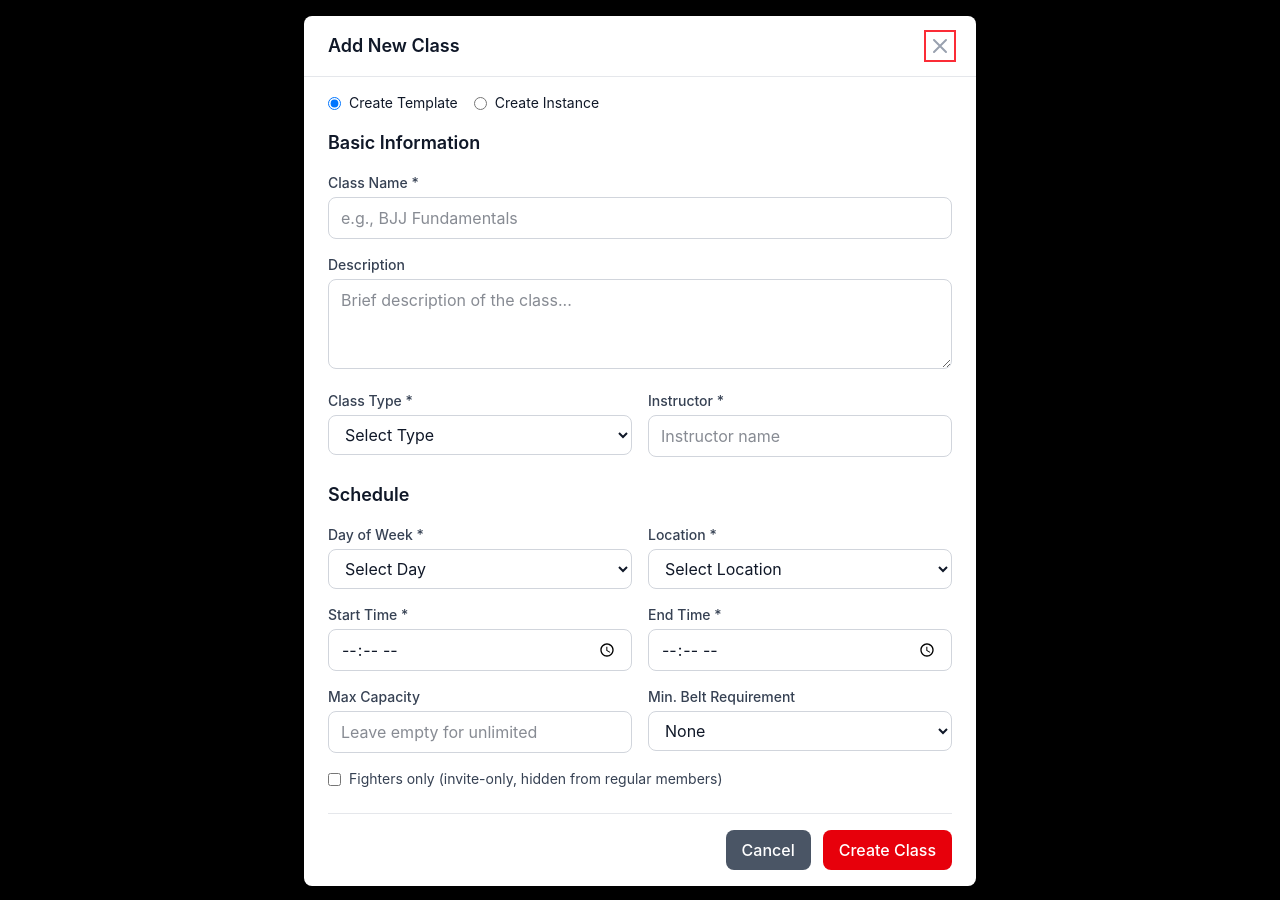
AddClassModal › validates end time after start time
Type "BJJ" into the field named "name" at {"x": 640, "y": 218}, box [328,197,952,239]
Type "Coach" into the field named "instructor" at {"x": 800, "y": 436}, box [648,415,952,457]
Select "Bjj" in the dropdown named "class_type" below "Class Type *" at {"x": 480, "y": 435}, box [328,415,632,455]
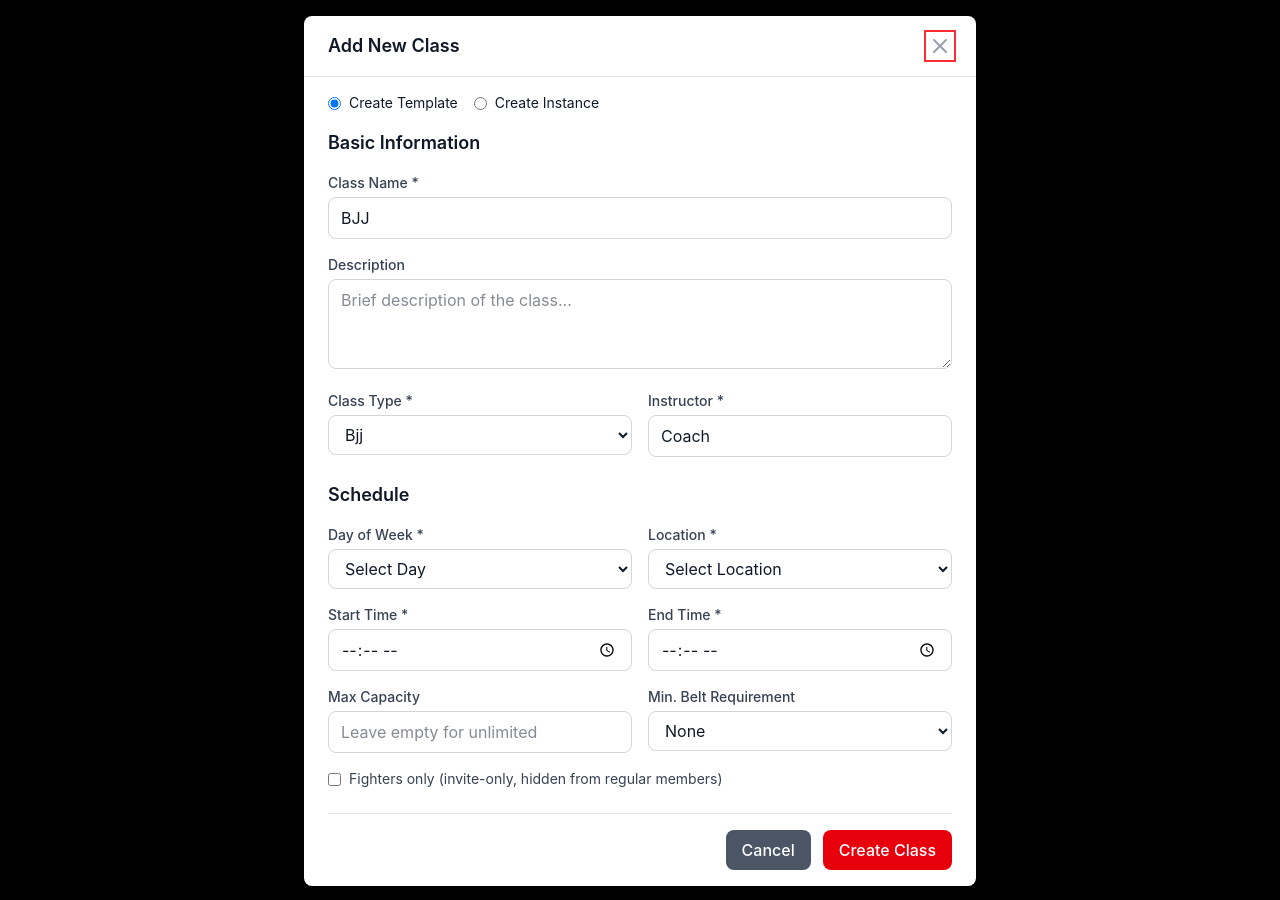
Select "Rockingham" in the dropdown named "location" below "Location *" at {"x": 800, "y": 569}, box [648,549,952,589]
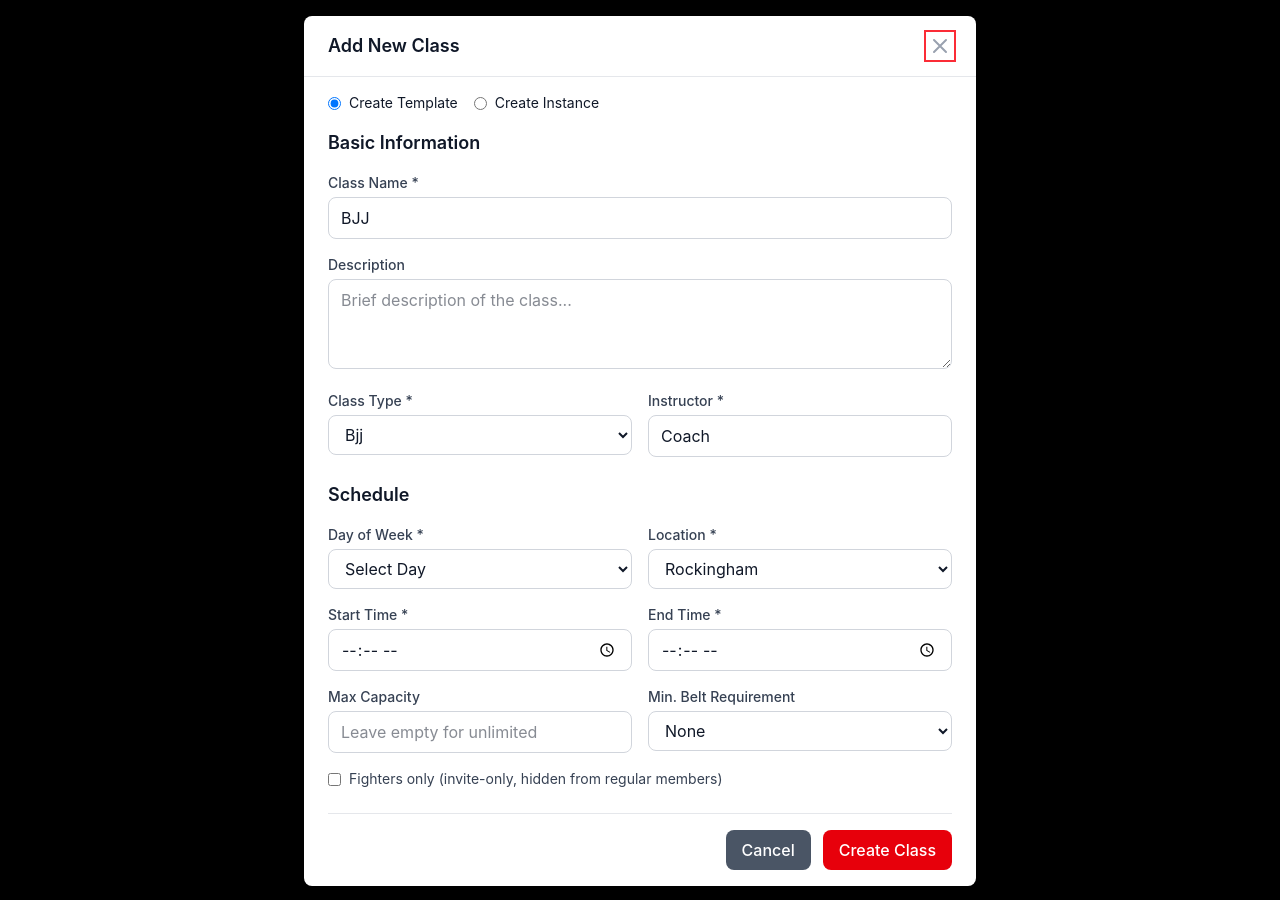
Select "Monday" in the dropdown named "day_of_week" below "Day of Week *" at {"x": 480, "y": 569}, box [328,549,632,589]
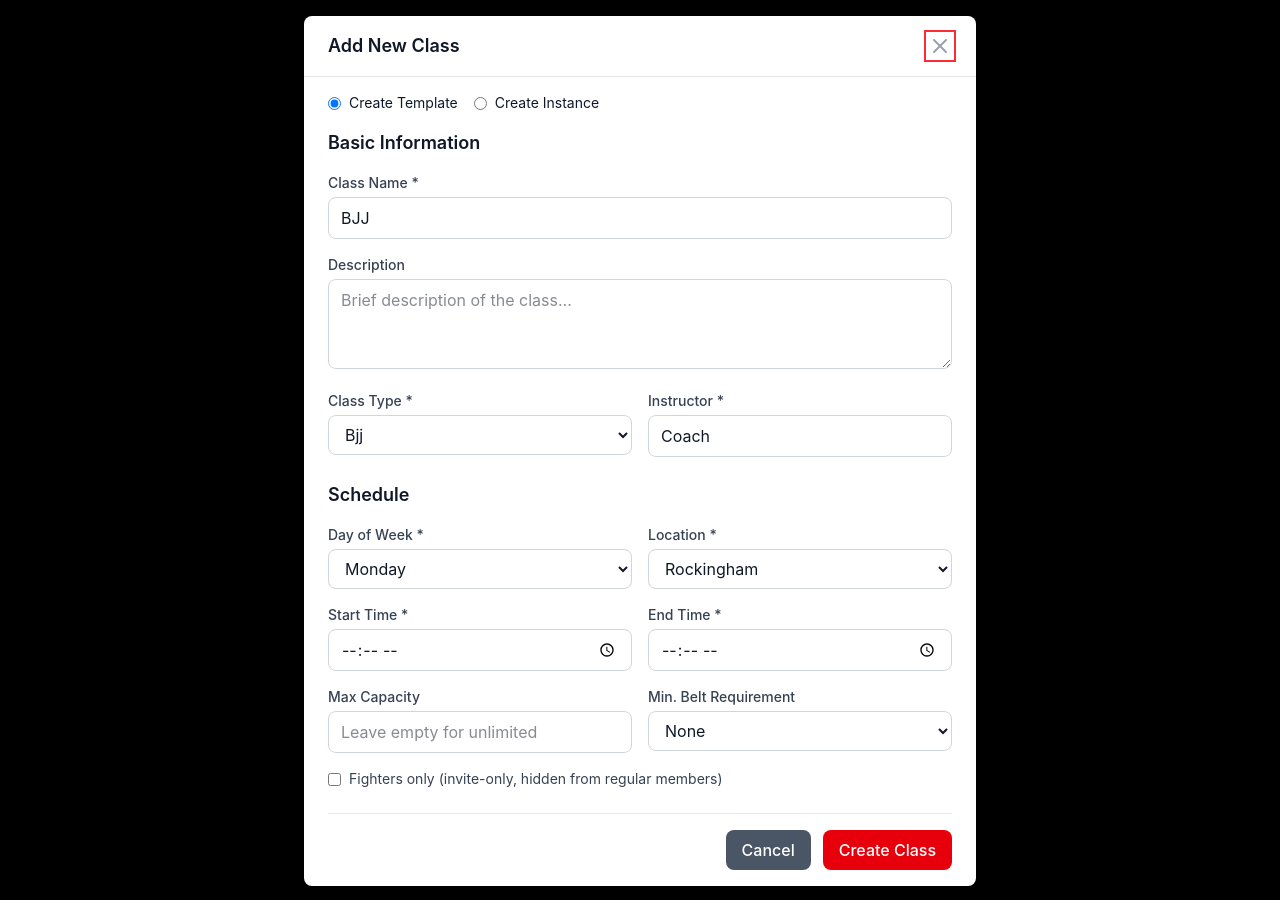
Type "10:00" into the time field named "start_time" below "Start Time *" at {"x": 480, "y": 650}, box [328,629,632,671]
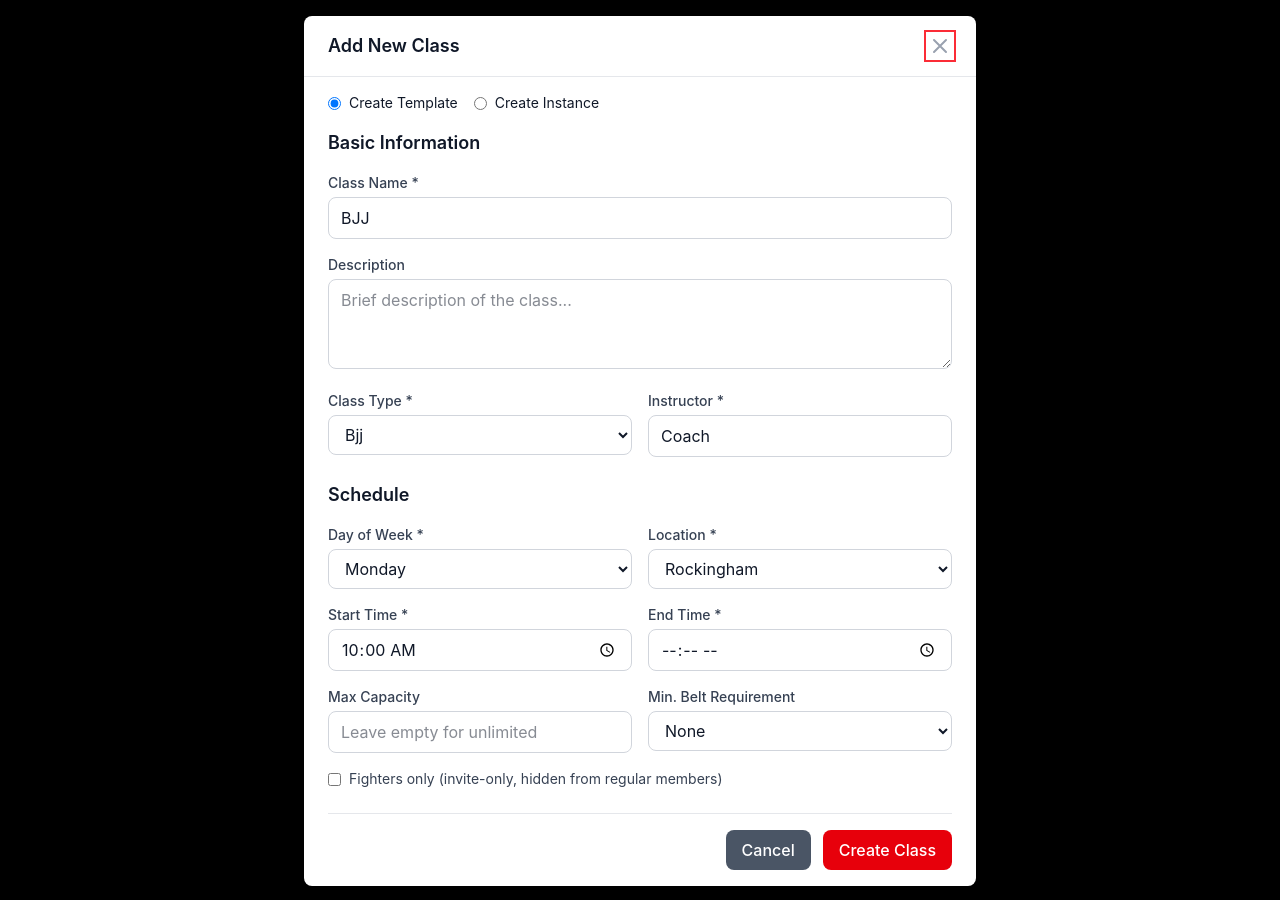
Type "09:00" into the time field named "end_time" below "End Time *" at {"x": 800, "y": 650}, box [648,629,952,671]
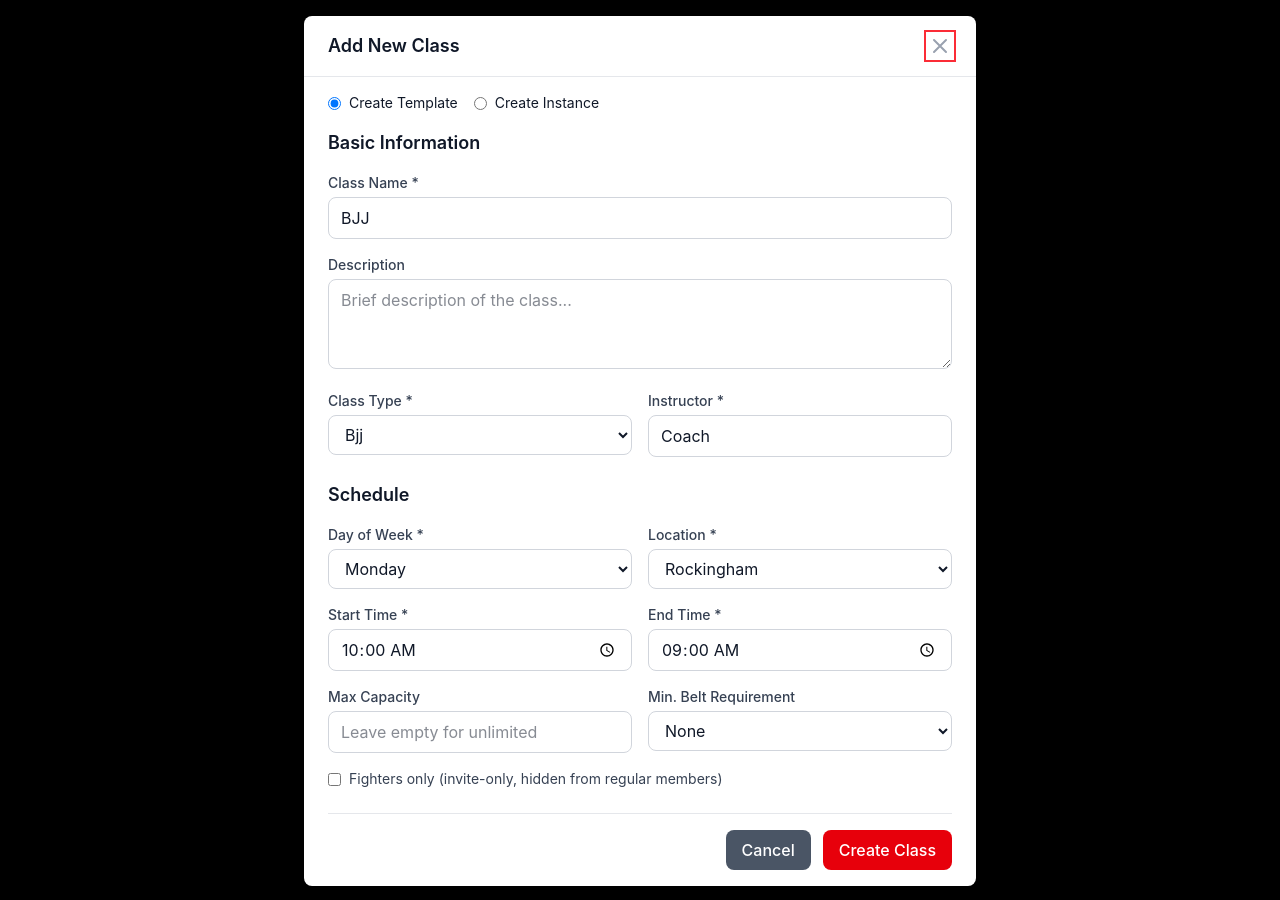
Click the button "Create Class" at {"x": 887, "y": 850}, box [823,830,952,870]
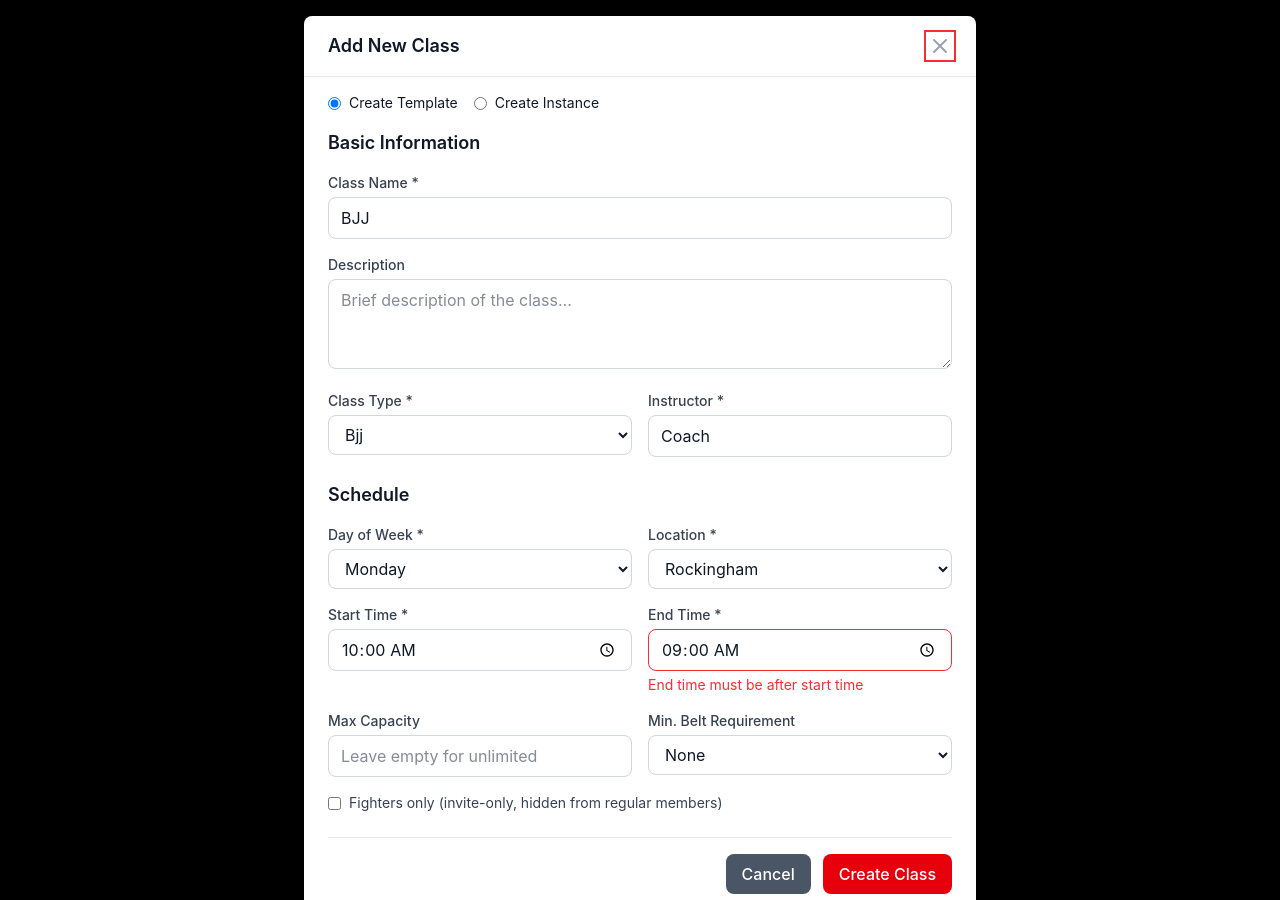
Check: the text "End time must be after start time" is shown, box [648,676,863,693]
